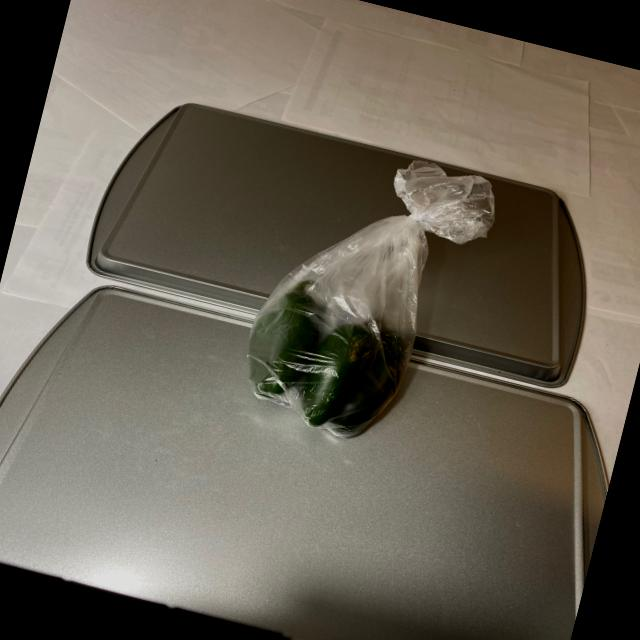chilli: (223, 268, 429, 456)
